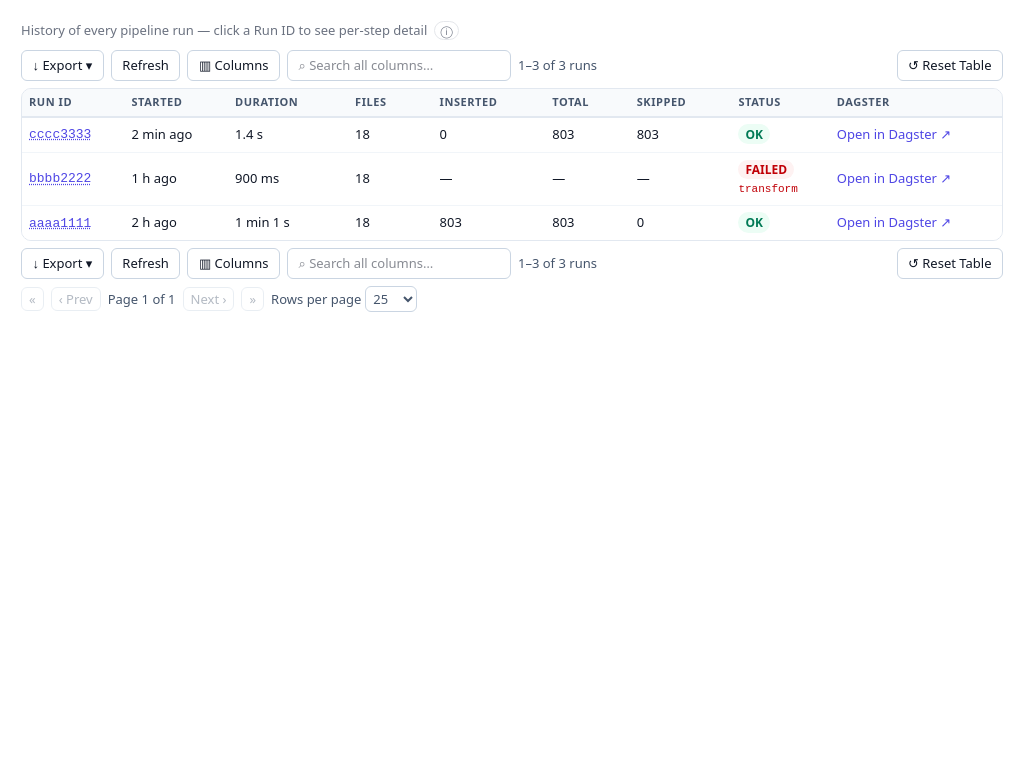
Test: F21-FR-02: a Run ID opens the per-step window with status, duration, rows and the error
Click the button with test id "run-link" showing "bbbb2222".
click(60, 179)  # box [29,169,91,189]
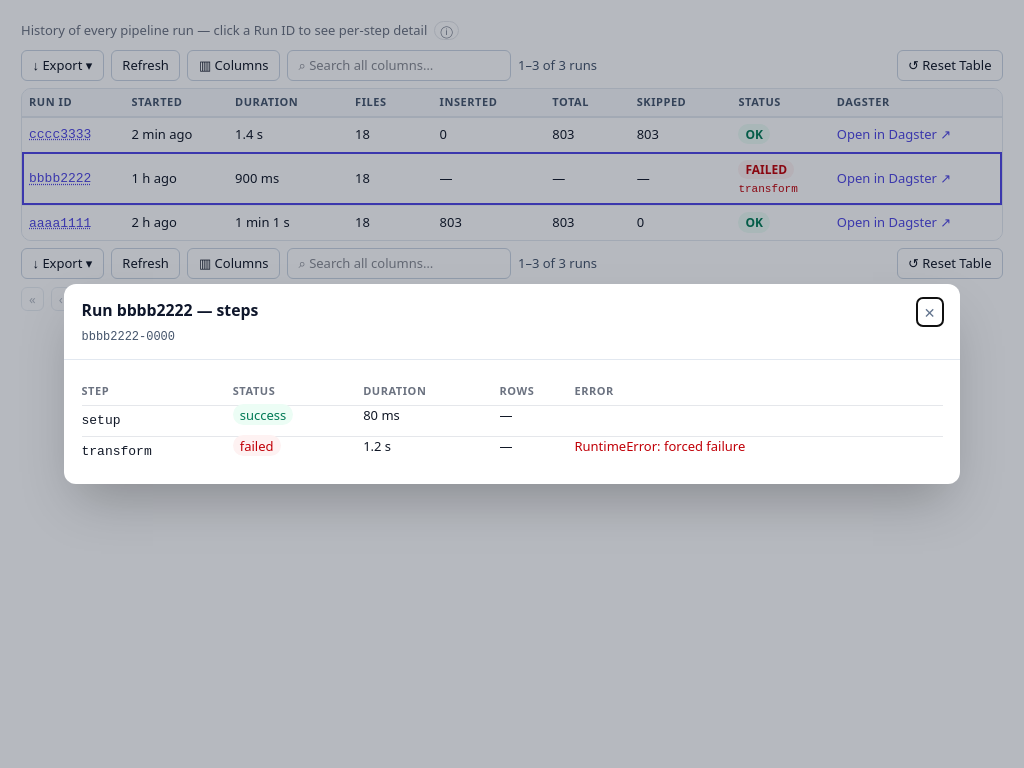
Now the row with test id "run-step" shows "failed", box [240,436,274,454]
Now the row with test id "run-step" shows "1.2 s", box [363,436,391,454]
Now the row with test id "run-step" shows "RuntimeError: forced failure", box [574,436,745,454]
